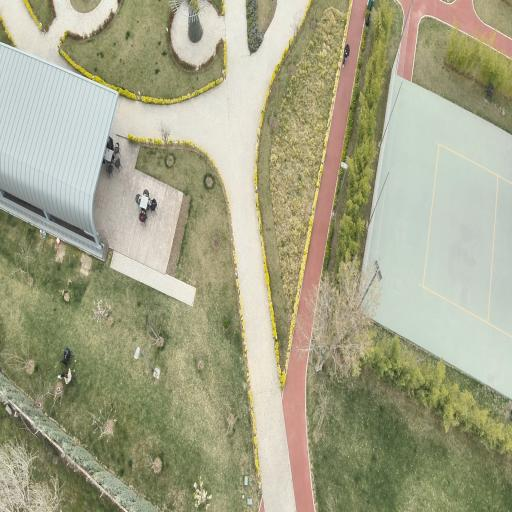person: (58, 368, 72, 384), (61, 348, 71, 365), (343, 44, 349, 67), (107, 136, 114, 150), (140, 210, 147, 222), (150, 199, 157, 211)
